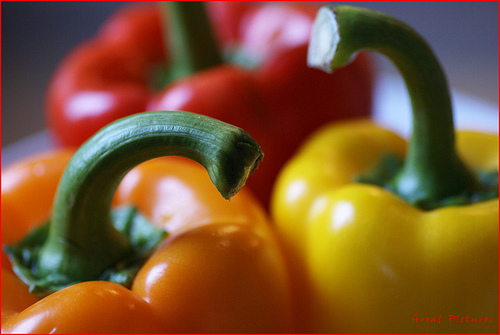capsicum: (272, 4, 499, 334), (44, 0, 375, 220), (0, 108, 299, 333)
